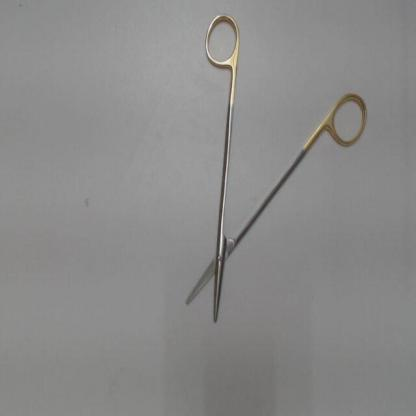7 Metzenbaum Scissors: (181, 9, 371, 328)
